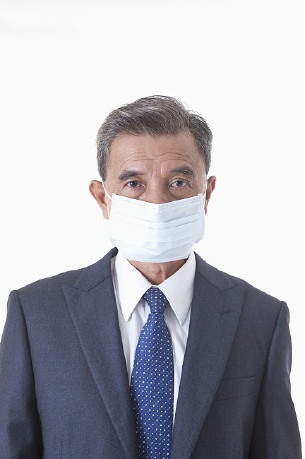Mask: (102, 162, 203, 263)
